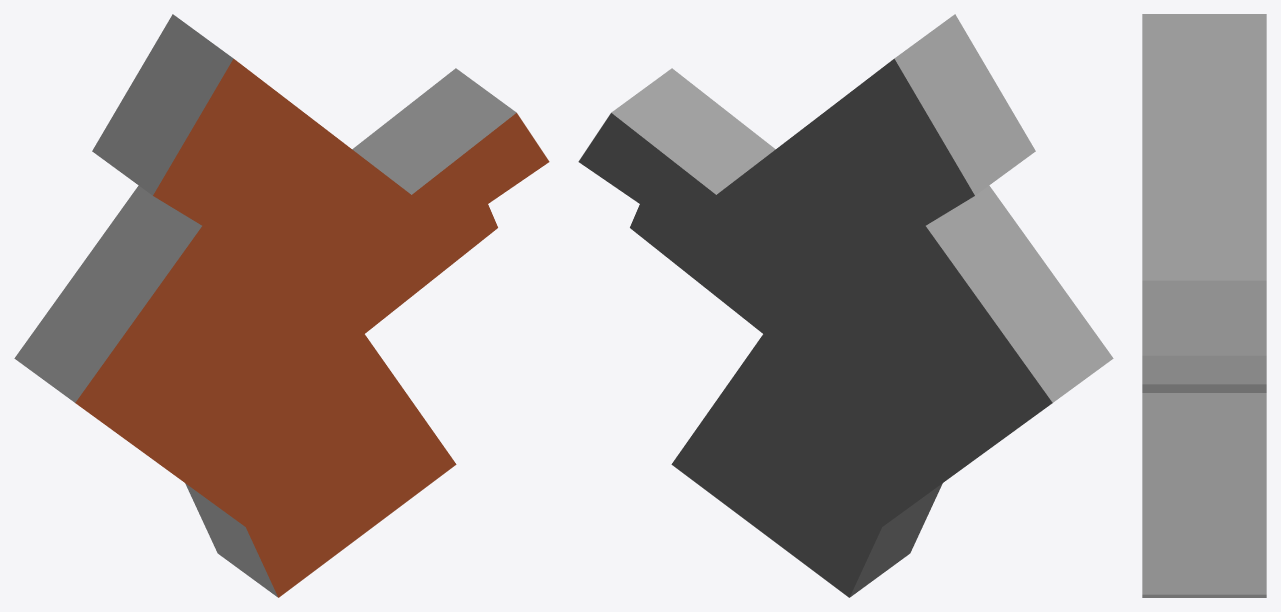
File: construction_6654_assumed_A_Casa_h6m.obj
3 renders of one model, left to right at view 1: azimuth 30°, elevation 25°; view 2: azimuth 150°, elevation 25°; view 3: azimuth 270°, elevation 25°, orthographic. The views are drawn at different scales.
Visible parts, largest first — view 1: construction_6654_assumed_A_Casa; view 2: construction_6654_assumed_A_Casa; view 3: construction_6654_assumed_A_Casa.
Part boxes in pixels (<box>): construction_6654_assumed_A_Casa: <box>14,14,549,597</box>; construction_6654_assumed_A_Casa: <box>578,14,1113,597</box>; construction_6654_assumed_A_Casa: <box>1142,14,1266,597</box>.
Size of the model in its own units: 27.01 by 29.94 by 6.
